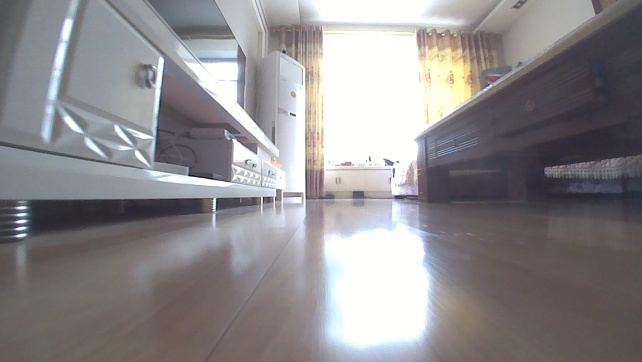TV_stand: (0, 0, 287, 243)
tea_table1: (411, 0, 641, 208)
